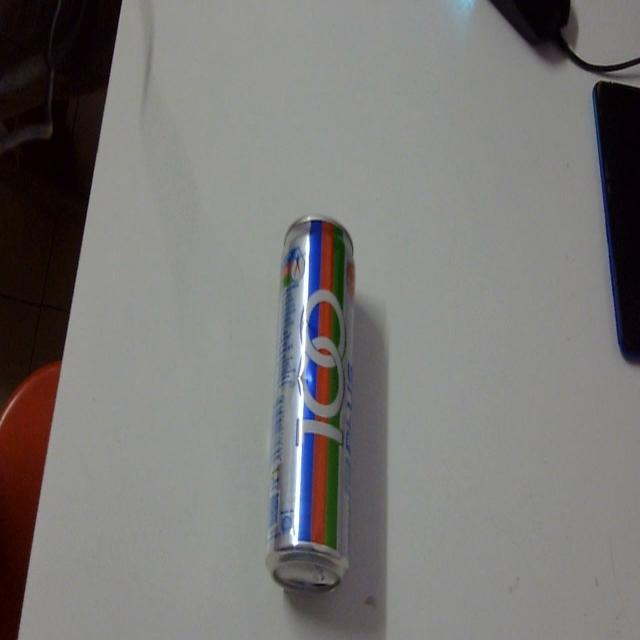metal_laydown_90rotation: (259, 205, 369, 606)
